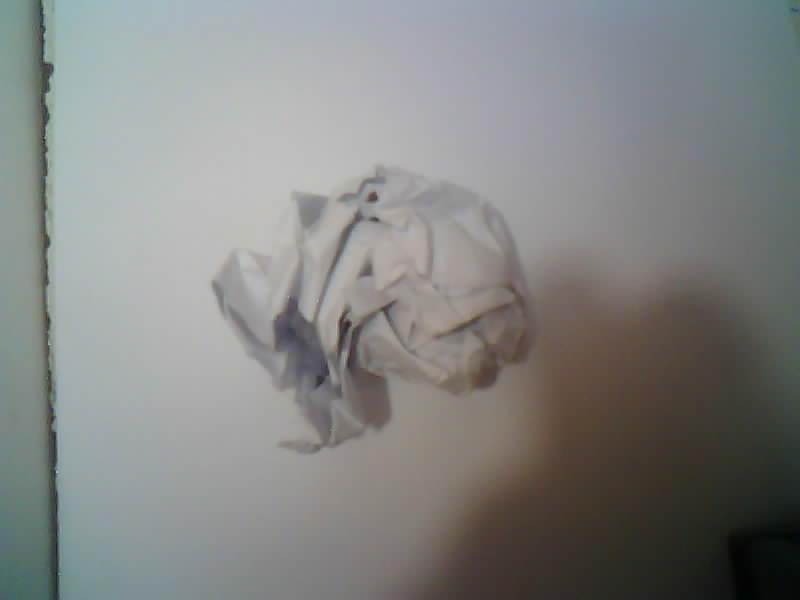biodegradable: (212, 165, 526, 453)
